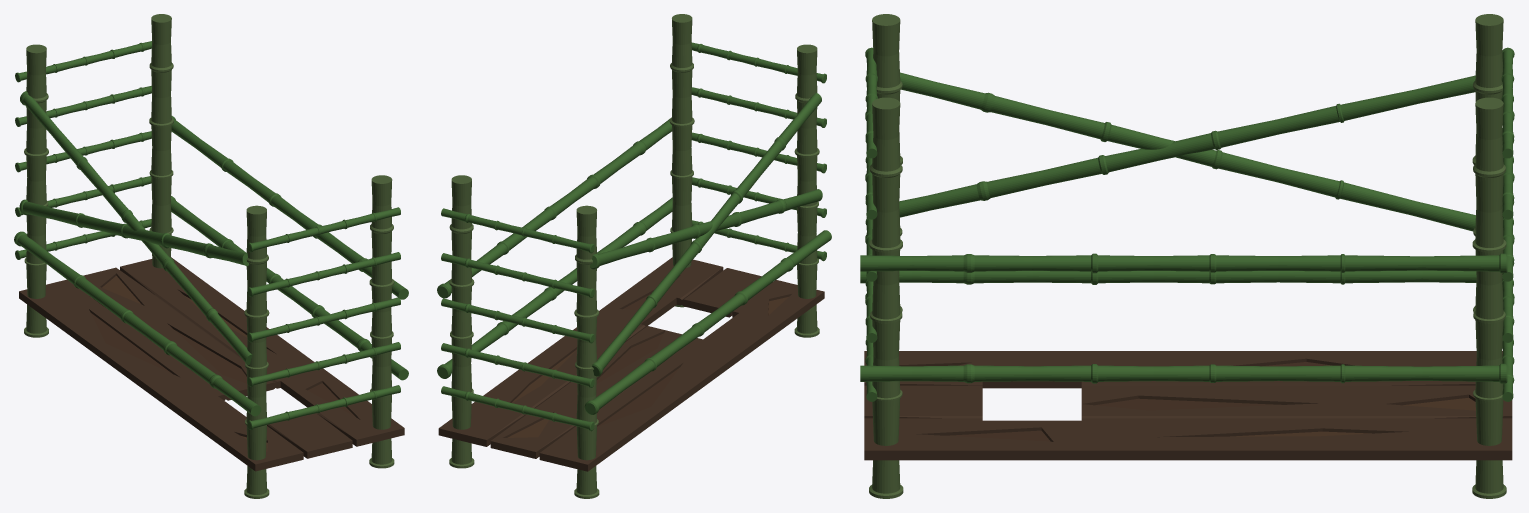
File: Echafaudage 3.fbx
3 renders of one model, left to right at view 1: azimuth 30°, elevation 25°; view 2: azimuth 150°, elevation 25°; view 3: azimuth 270°, elevation 25°, orthographic. The views are drawn at different scales.
Visible parts, largest first — view 1: Cube.001, Cylindre.015, Cylindre.012, Cylindre.014, Cylindre.016, Cylindre.049, Cylindre.047, Cylindre.051, Cylindre.048, Cylindre.050, Cylindre.045, Cylindre.044 (+8 smaller); view 2: Cube.001, Cylindre.016, Cylindre.014, Cylindre.012, Cylindre.015, Cylindre.048, Cylindre.047, Cylindre.051, Cylindre.049, Cylindre.050, Cylindre.039, Cylindre.041 (+8 smaller); view 3: Cube.001, Cylindre.051, Cylindre.050, Cylindre.016, Cylindre.015, Cylindre.049, Cylindre.048, Cylindre.047, Cylindre.012, Cylindre.014, Cylindre.037, Cylindre.046.
Boxes of the visible parts, box(x1,y1,x2,y2) form: Cube.001: box(19, 257, 404, 471); Cylindre.015: box(369, 175, 394, 468); Cylindre.012: box(24, 44, 48, 337); Cylindre.014: box(244, 205, 269, 498); Cylindre.016: box(149, 14, 173, 268); Cylindre.049: box(20, 91, 252, 364); Cylindre.047: box(14, 231, 261, 416); Cylindre.051: box(171, 116, 408, 299); Cylindre.048: box(19, 199, 249, 265); Cylindre.050: box(171, 196, 408, 380); Cylindre.045: box(247, 252, 400, 296); Cylindre.044: box(247, 342, 400, 386); Cube.001: box(438, 257, 824, 471); Cylindre.016: box(449, 175, 474, 468); Cylindre.014: box(794, 44, 819, 337); Cylindre.012: box(574, 205, 599, 498); Cylindre.015: box(669, 14, 694, 307); Cylindre.048: box(592, 93, 821, 376); Cylindre.047: box(584, 230, 831, 414); Cylindre.051: box(437, 117, 671, 298); Cylindre.049: box(590, 189, 822, 269); Cylindre.050: box(437, 197, 672, 378); Cylindre.039: box(441, 343, 594, 387); Cylindre.041: box(441, 386, 594, 431); Cube.001: box(864, 351, 1512, 460); Cylindre.051: box(860, 253, 1507, 273); Cylindre.050: box(860, 363, 1507, 383); Cylindre.016: box(1472, 97, 1506, 498); Cylindre.015: box(869, 97, 903, 498); Cylindre.049: box(899, 75, 1475, 217); Cylindre.048: box(900, 72, 1475, 231); Cylindre.047: box(860, 270, 1502, 284); Cylindre.012: box(1472, 14, 1503, 312); Cylindre.014: box(872, 14, 902, 312); Cylindre.037: box(1501, 47, 1514, 158); Cylindre.046: box(865, 47, 877, 158).
Bounding box in the file's own units: 342 × 579 × 882.
